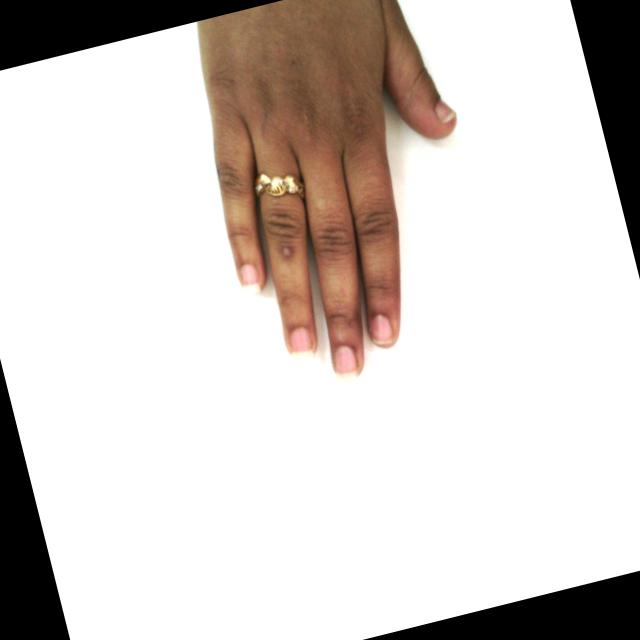Nail: (333, 344, 359, 380), (289, 325, 314, 356), (370, 313, 394, 345), (240, 263, 261, 295), (434, 98, 458, 125)
